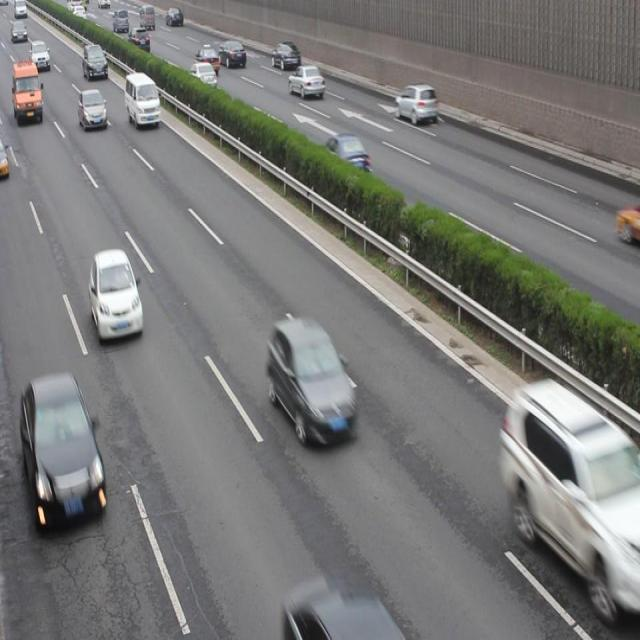car: (505, 384, 640, 602), (23, 376, 105, 534), (267, 319, 355, 444), (90, 247, 144, 343), (322, 136, 368, 177), (395, 85, 436, 126), (289, 66, 324, 100), (78, 88, 106, 129), (83, 43, 106, 79), (218, 42, 244, 71), (188, 62, 217, 87), (272, 44, 299, 70), (193, 47, 220, 72), (30, 40, 51, 69), (130, 27, 149, 51)
truck: (124, 72, 160, 129), (13, 62, 44, 120)
